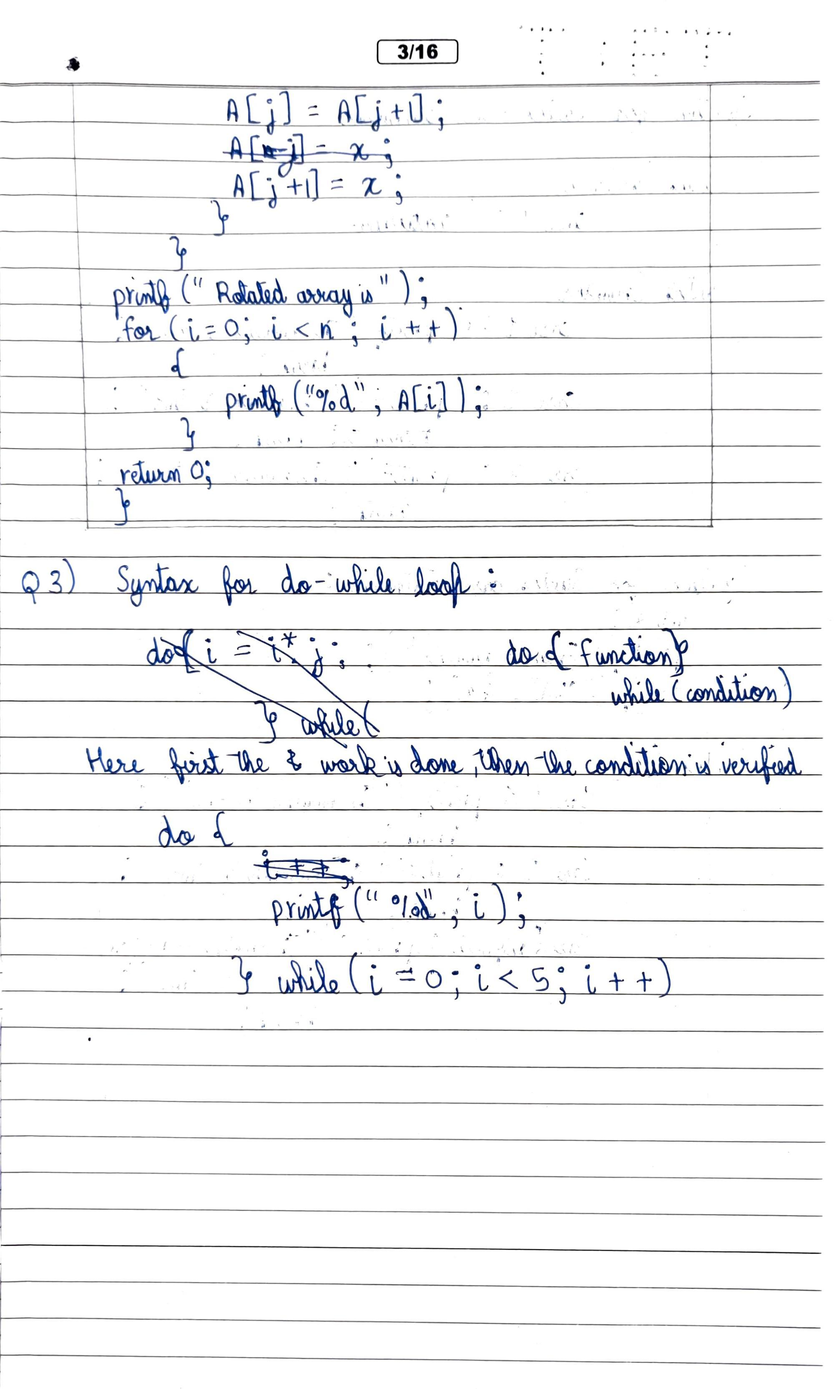cuttings: (136, 617, 389, 753), (218, 131, 401, 182), (249, 847, 358, 893), (282, 746, 306, 773)
